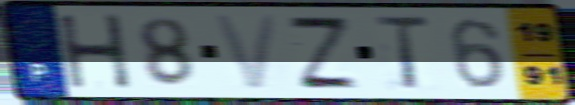6: (446, 16, 509, 91)
8: (134, 16, 198, 88)
H: (54, 12, 136, 91)
T: (370, 14, 434, 93)
V: (210, 12, 282, 92)
Z: (283, 14, 364, 92)
